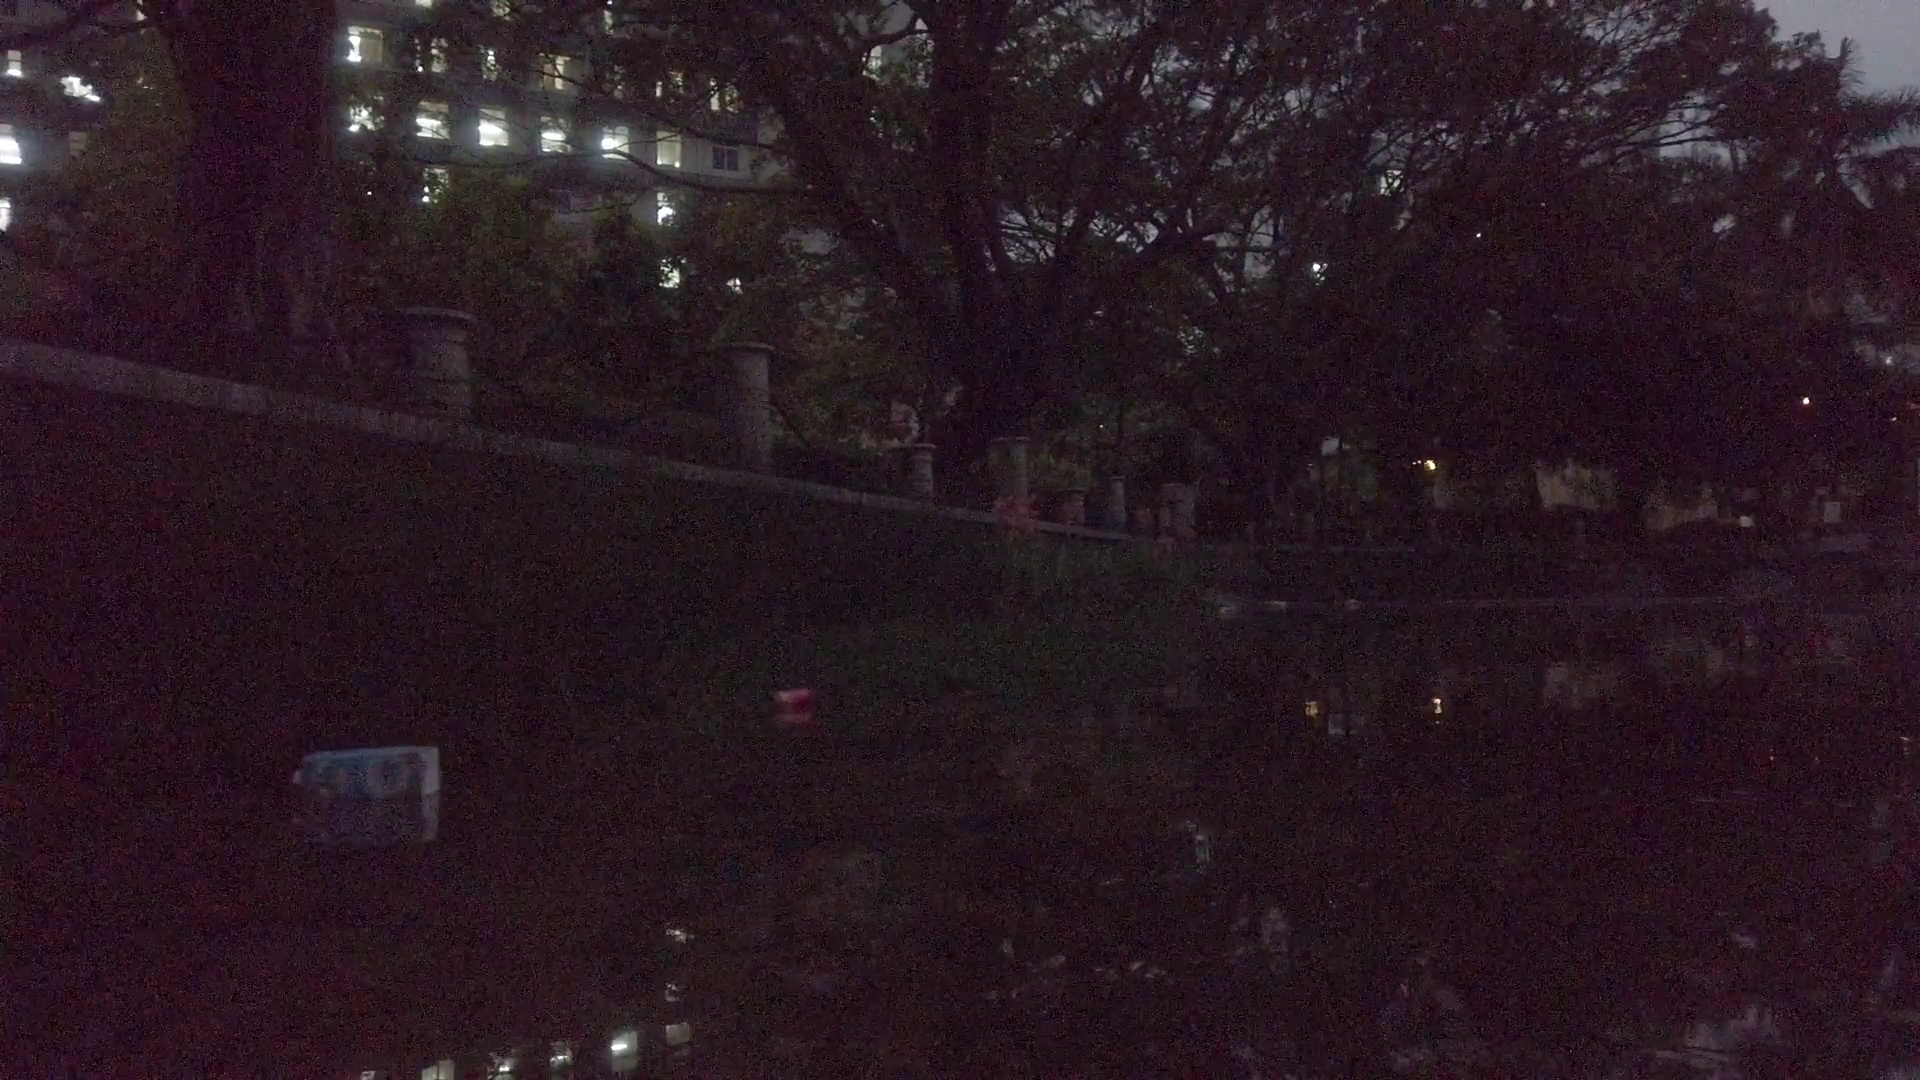bottle: (773, 687, 814, 705), (1265, 599, 1290, 612), (1218, 601, 1237, 618), (1344, 593, 1362, 608)
carton: (287, 746, 442, 802)
